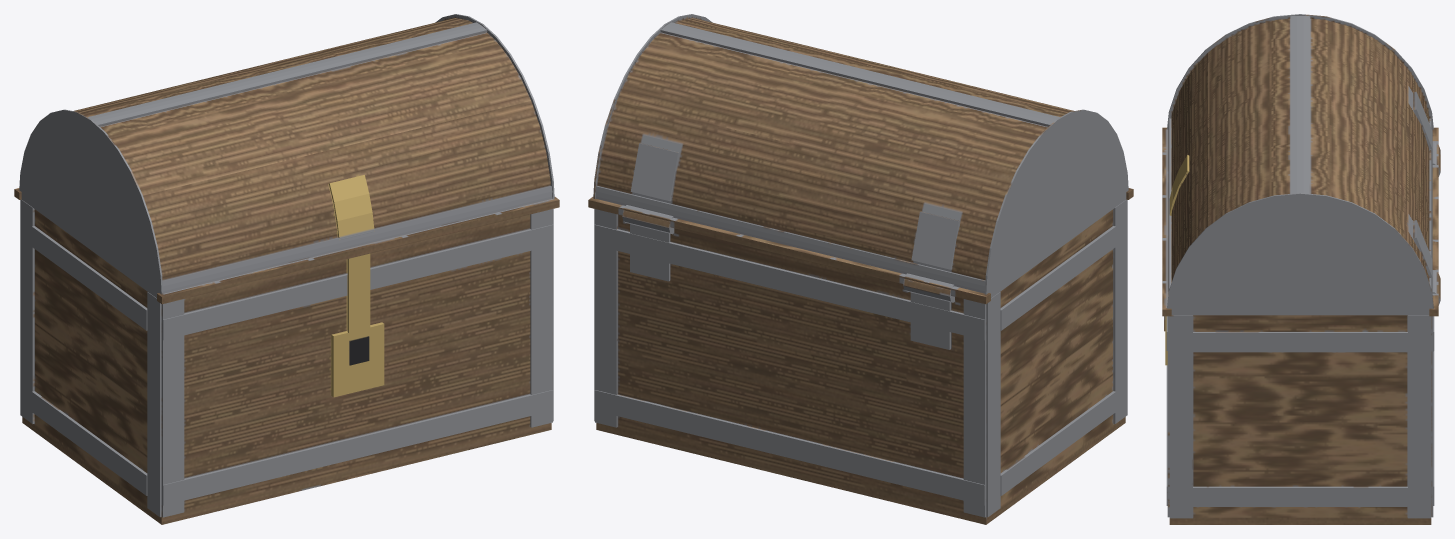
3 views of the same model, side by side, from view 1: azimuth 30°, elevation 25°; view 2: azimuth 150°, elevation 25°; view 3: azimuth 270°, elevation 25° (orthographic). The views are drawn at different scales.
Visible parts, largest first — view 1: Chest_LP.001; view 2: Chest_LP.001; view 3: Chest_LP.001.
Boxes of the visible parts, left/top/right/bottom form: Chest_LP.001: left=14, top=14, right=559, bottom=524; Chest_LP.001: left=588, top=14, right=1133, bottom=524; Chest_LP.001: left=1162, top=14, right=1440, bottom=524.
Bounding box in the file's own units: 1.02 × 0.868 × 0.66.
3 materials, 3 textured.
